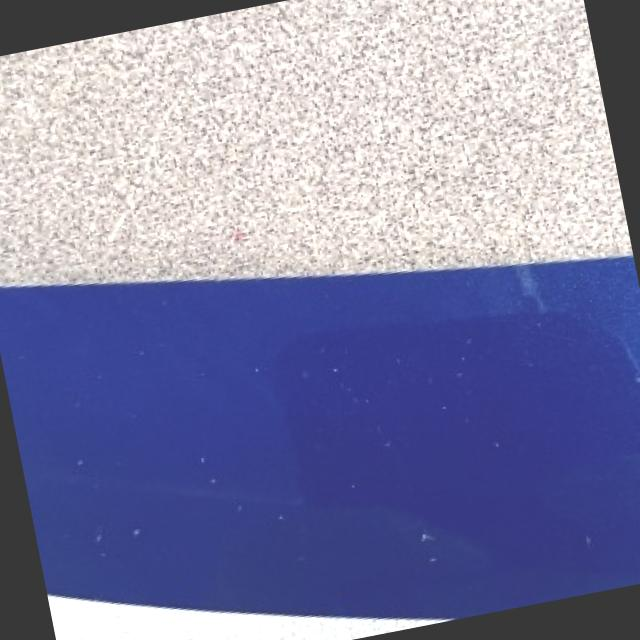healthy: (0, 254, 640, 617)
